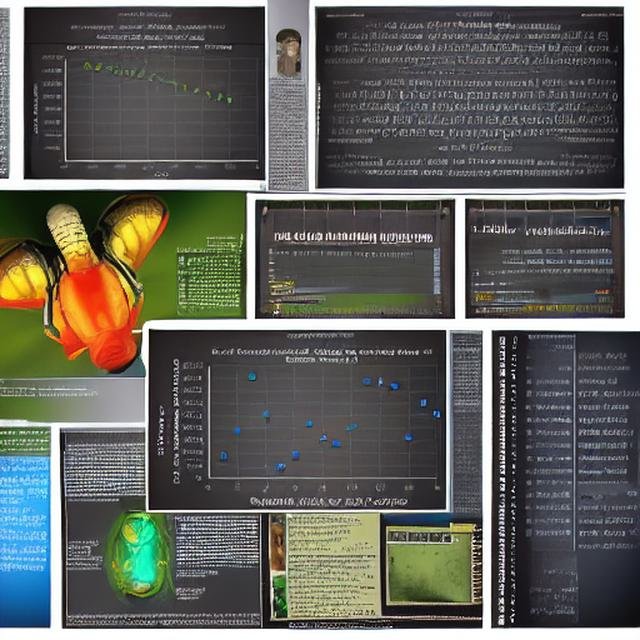Graph: (169, 341, 446, 510), (32, 42, 265, 180)
